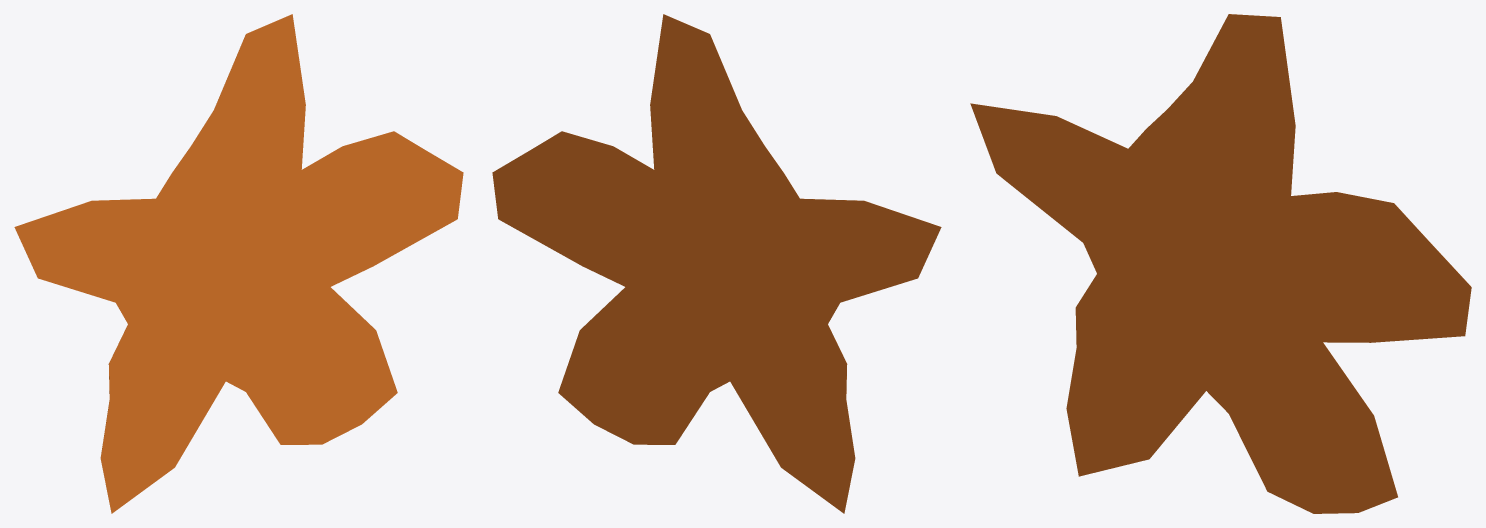
File: splat_orange.glb
The picture shows the model from 3 angles, left to right: view 1: azimuth 30°, elevation 25°; view 2: azimuth 150°, elevation 25°; view 3: azimuth 330°, elevation 25°; orthographic projection. The views are drawn at different scales.
Parts seen in each view (by area): view 1: SM_PaintSplash; view 2: SM_PaintSplash; view 3: SM_PaintSplash.
Boxes of the visible parts, x1,y1,x2,y2 form: SM_PaintSplash: (14,14,463,513); SM_PaintSplash: (492,14,941,513); SM_PaintSplash: (970,14,1471,513).
Bounding box in the file's own units: 1.71 × 1.66 × 0.0005.
